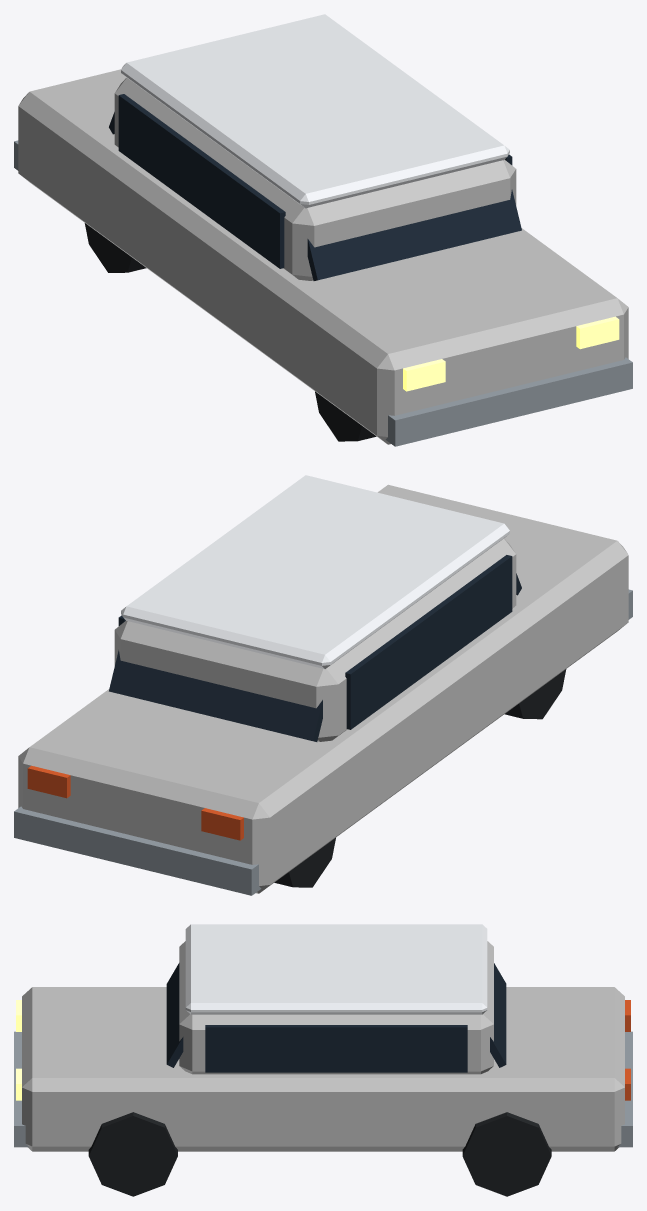
File: sedan.glb
The picture shows the model from 3 angles, top to bottom: view 1: azimuth 30°, elevation 25°; view 2: azimuth 150°, elevation 25°; view 3: azimuth 270°, elevation 25°; orthographic projection. The views are drawn at different scales.
Visible parts, largest first — view 1: sedan; view 2: sedan; view 3: sedan.
Boxes of the visible parts, left/top/right/bottom form: sedan: left=14, top=14, right=632, bottom=446; sedan: left=14, top=475, right=632, bottom=895; sedan: left=14, top=924, right=632, bottom=1196.
Size of the model in its own units: 1.87 by 1.51 by 4.72.
